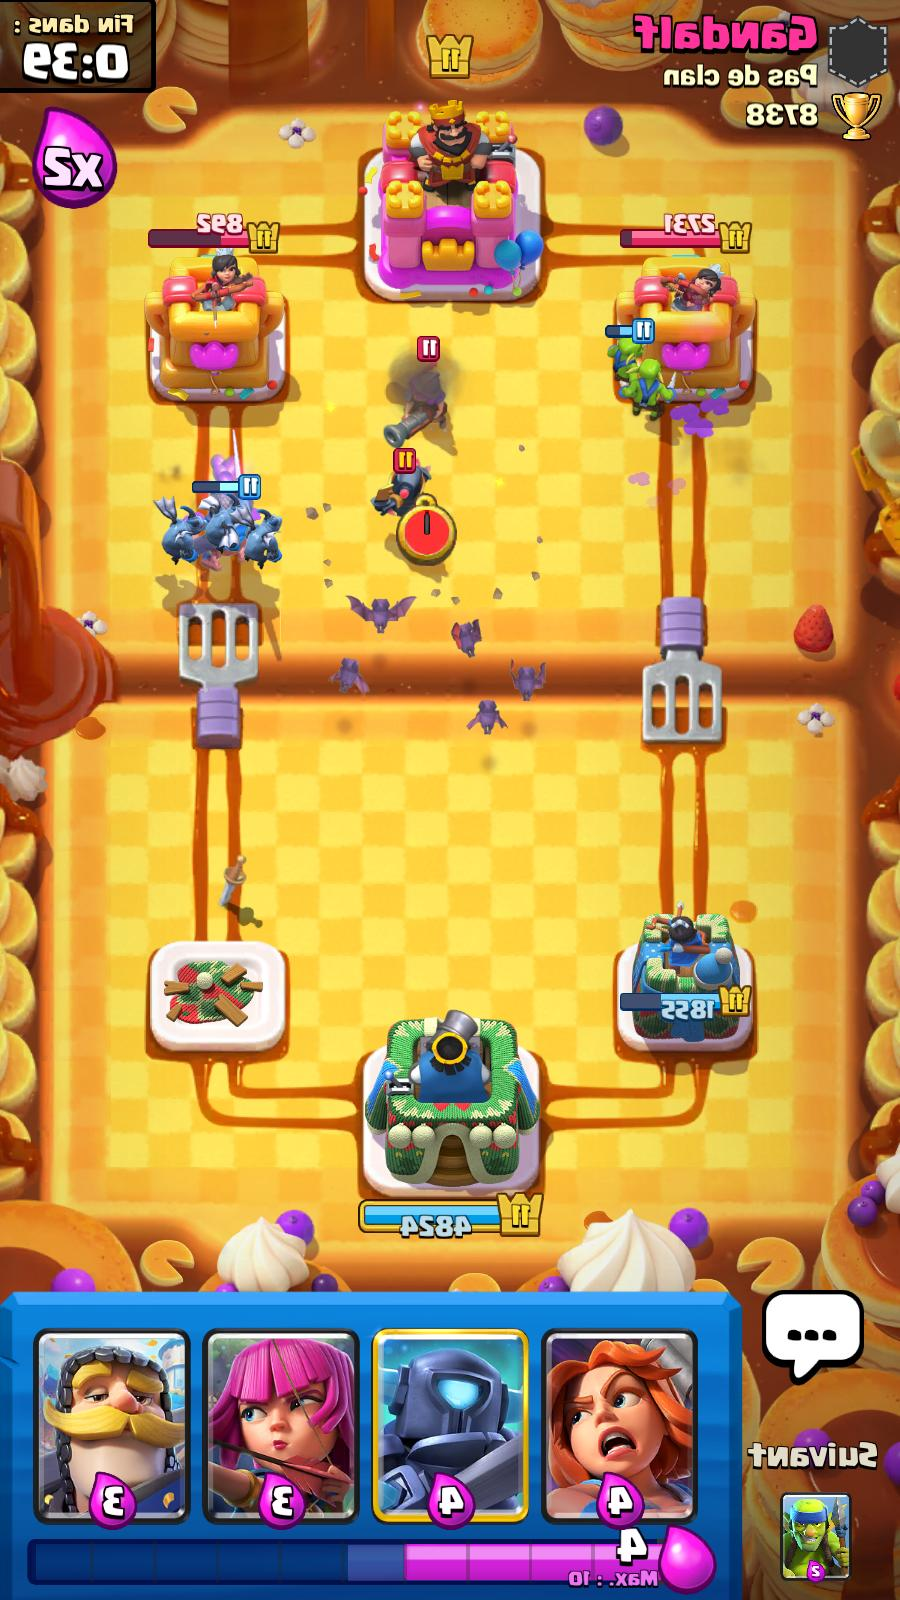bat: (344, 591, 414, 633), (464, 690, 509, 737), (327, 655, 371, 698), (508, 656, 545, 704), (448, 618, 482, 658)
gargouille: (192, 475, 265, 556), (156, 490, 209, 570), (232, 500, 284, 569)
gobelin: (602, 316, 657, 389), (619, 359, 677, 423)
mini_PEKKA: (366, 446, 434, 521)
mousquetaire: (376, 329, 451, 448)
